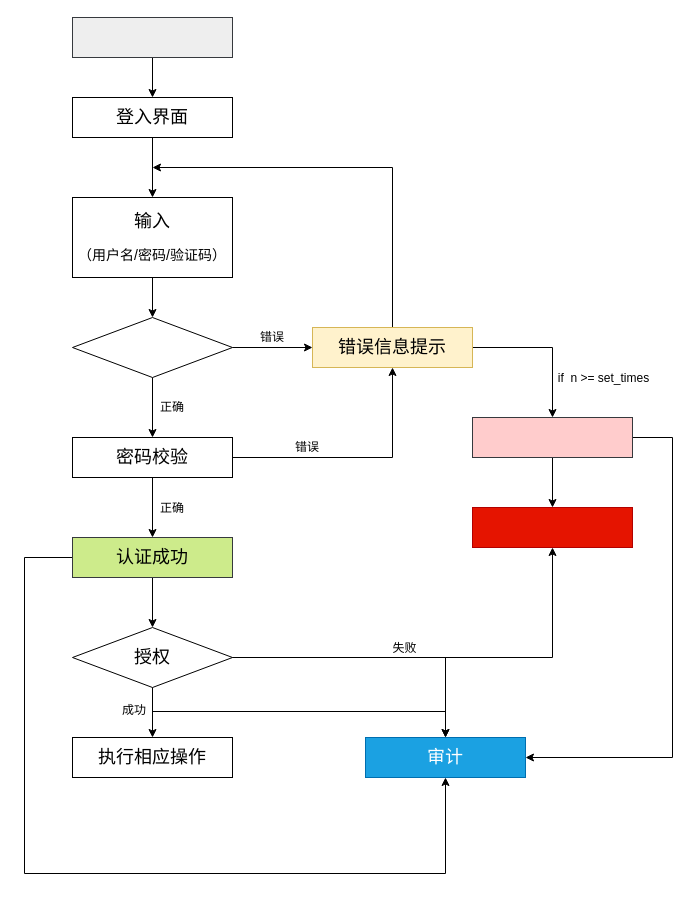
Some shapes in this 698 by 899 pixel diagram are drawn without their labels. The centre of each missing label's shape, as x and y in pixels:
"开始" belongs at (152,37).
"拒绝访问" belongs at (552,527).
"认证失败" belongs at (552,437).
"验证码校验" belongs at (152,347).
